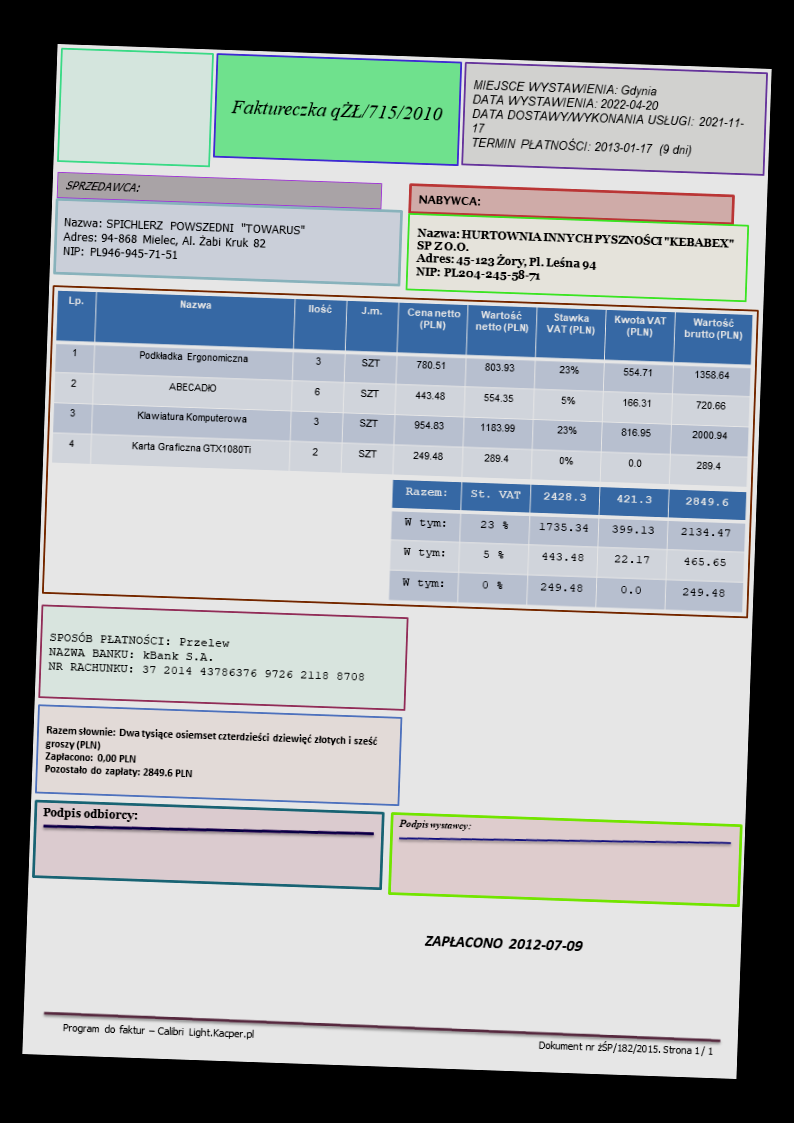Table: (50, 287, 752, 489), (387, 477, 748, 615)
TextBox: (469, 76, 747, 163), (42, 721, 379, 788), (412, 224, 739, 290), (45, 628, 368, 686), (59, 211, 308, 269), (226, 94, 445, 126), (59, 1018, 256, 1043), (537, 1036, 716, 1059), (422, 930, 586, 955), (39, 802, 139, 825), (396, 813, 472, 833), (63, 176, 140, 195), (415, 191, 481, 210)
